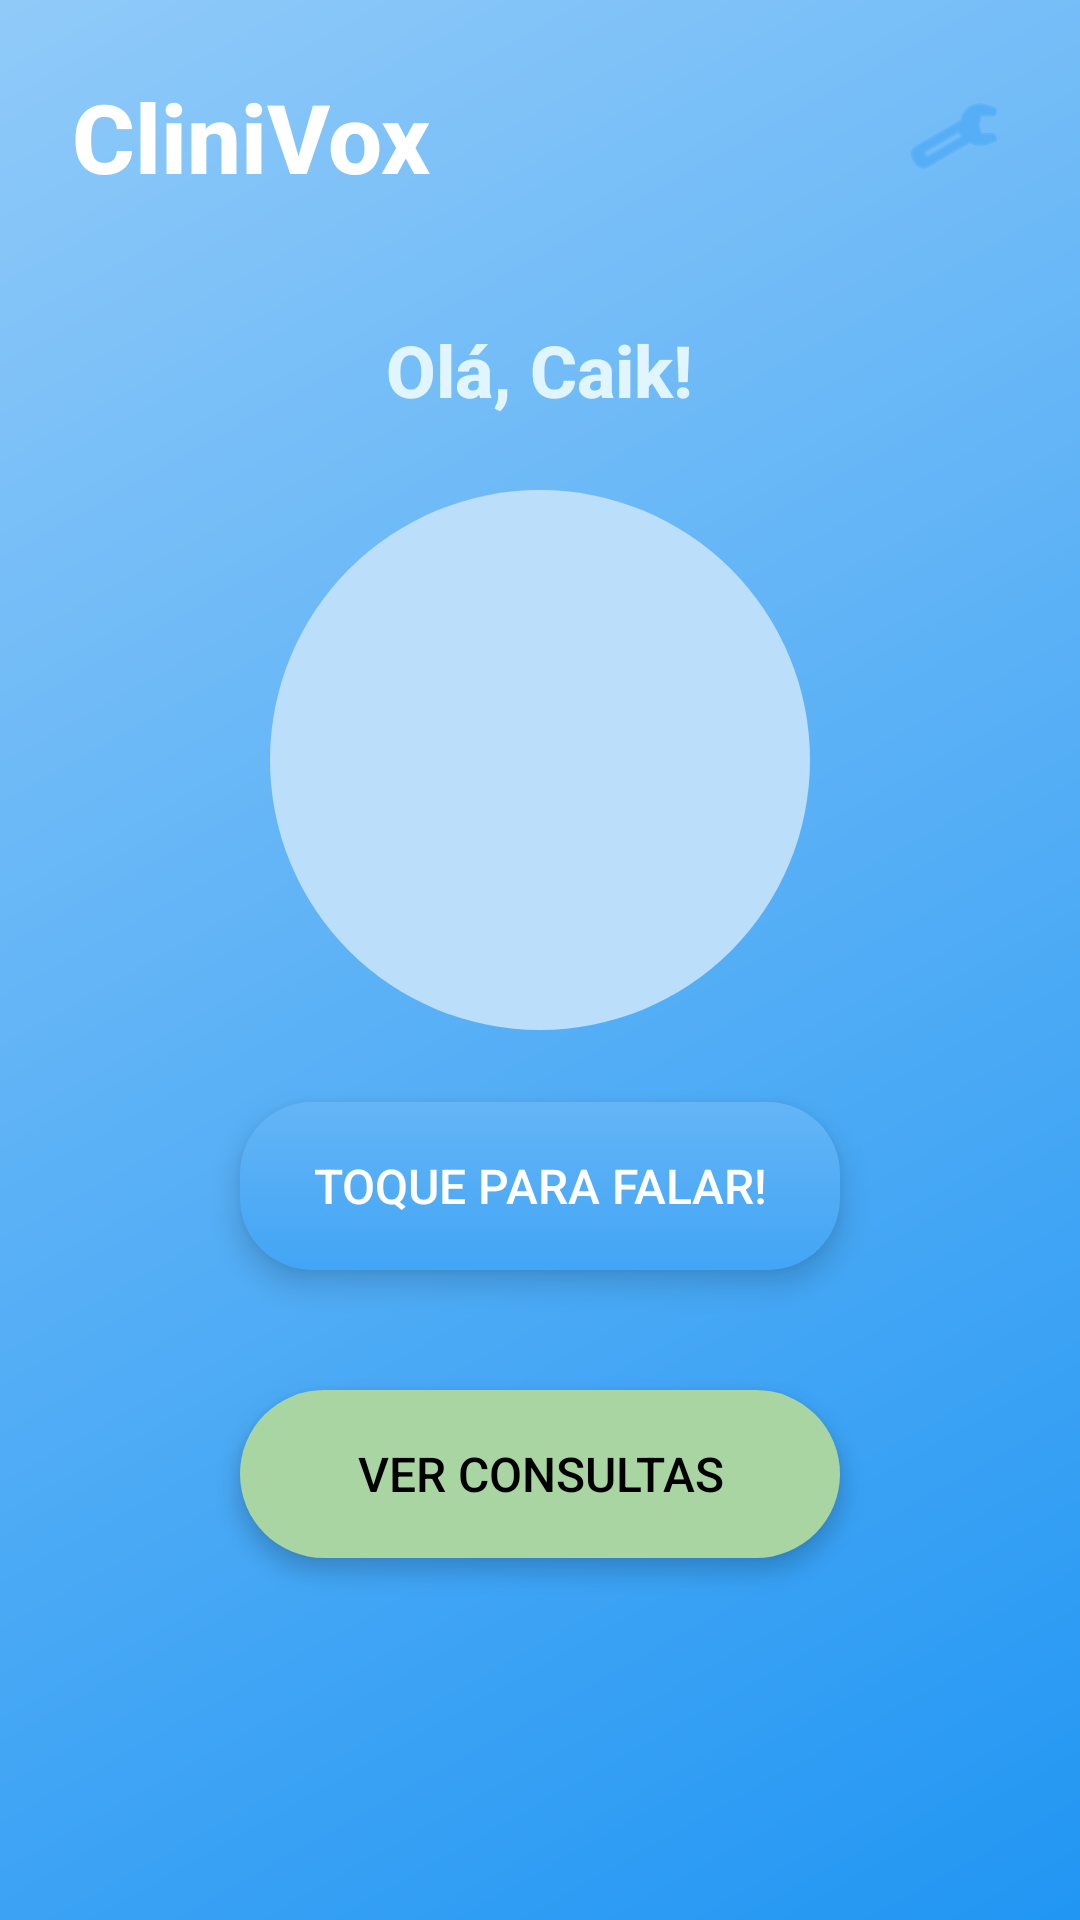

Point at icon controls on the screen. Image size 1080px×1920px, points as (x=x, y=y).
Configurações: (x=954, y=136)
